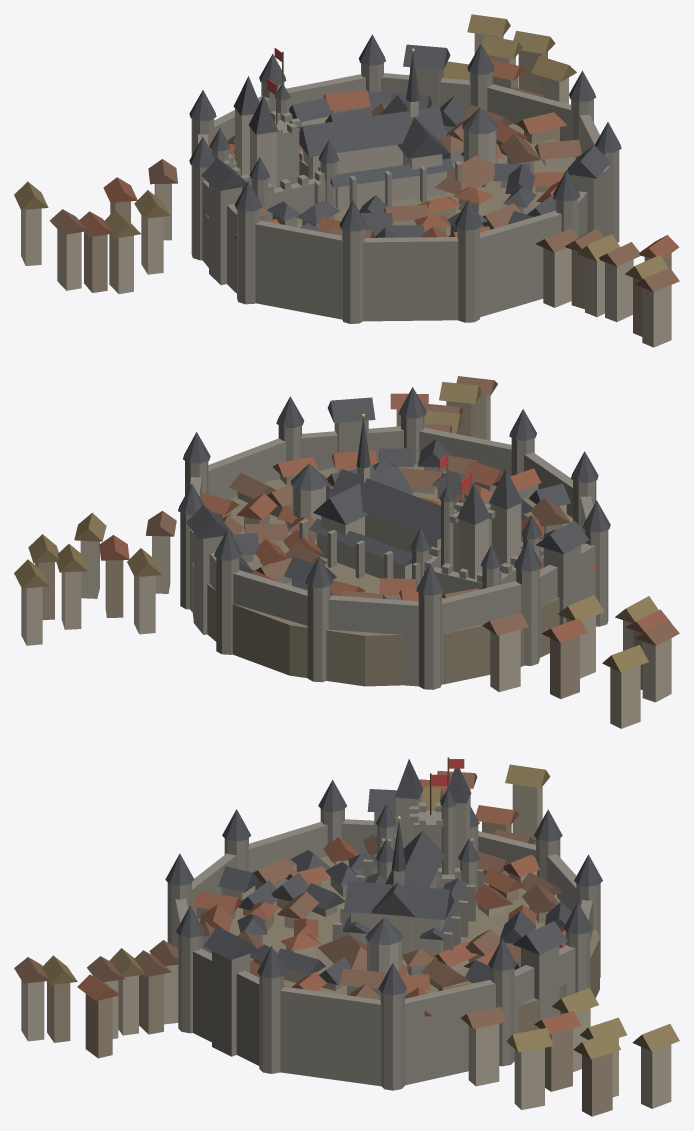
File: cite_b.glb
The picture shows the model from 3 angles, top to bottom: view 1: azimuth 30°, elevation 25°; view 2: azimuth 150°, elevation 25°; view 3: azimuth 270°, elevation 25°; orthographic projection. The views are drawn at different scales.
Visible parts, largest first — view 1: cite_b; view 2: cite_b; view 3: cite_b.
Part boxes in pixels (x1,y1,x2,y2): cite_b: [14, 14, 679, 347]; cite_b: [14, 376, 679, 728]; cite_b: [14, 757, 679, 1116].
Size of the model in its own units: 4.47 by 1.38 by 4.37.
